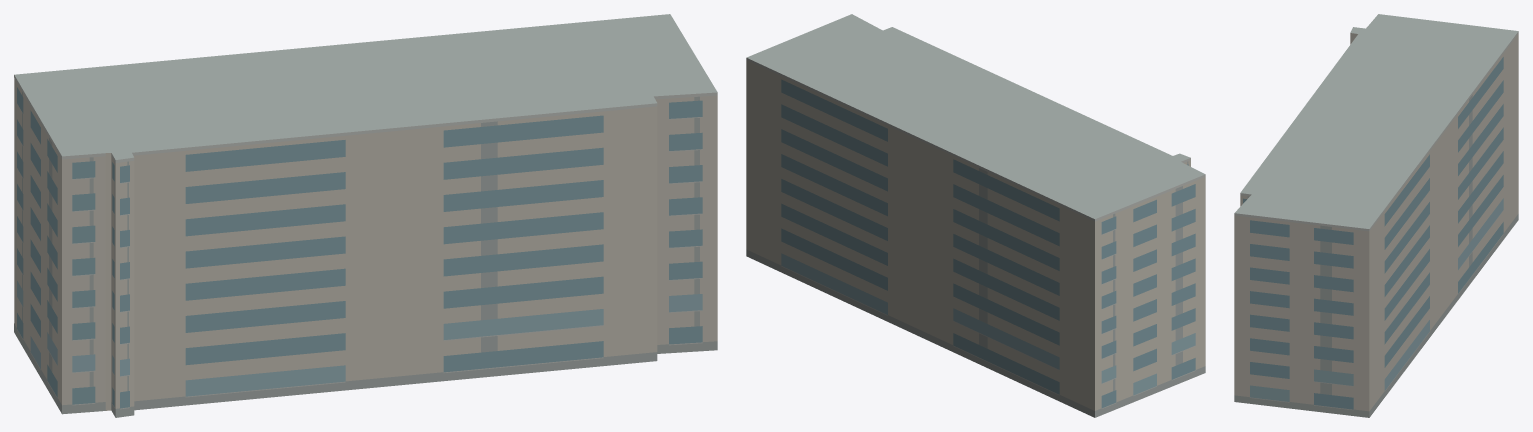
File: survey-upis-32860485.glb
3 renders of one model, left to right at view 1: azimuth 30°, elevation 25°; view 2: azimuth 150°, elevation 25°; view 3: azimuth 270°, elevation 25°, orthographic. The views are drawn at different scales.
Visible parts, largest first — view 1: survey-upis-32860485.tmp; view 2: survey-upis-32860485.tmp; view 3: survey-upis-32860485.tmp.
Boxes of the visible parts, x1,y1,x2,y2 form: survey-upis-32860485.tmp: [14, 14, 717, 417]; survey-upis-32860485.tmp: [746, 14, 1205, 417]; survey-upis-32860485.tmp: [1234, 14, 1518, 417].
Size of the model in its own units: 49.39 by 20.2 by 27.58.
